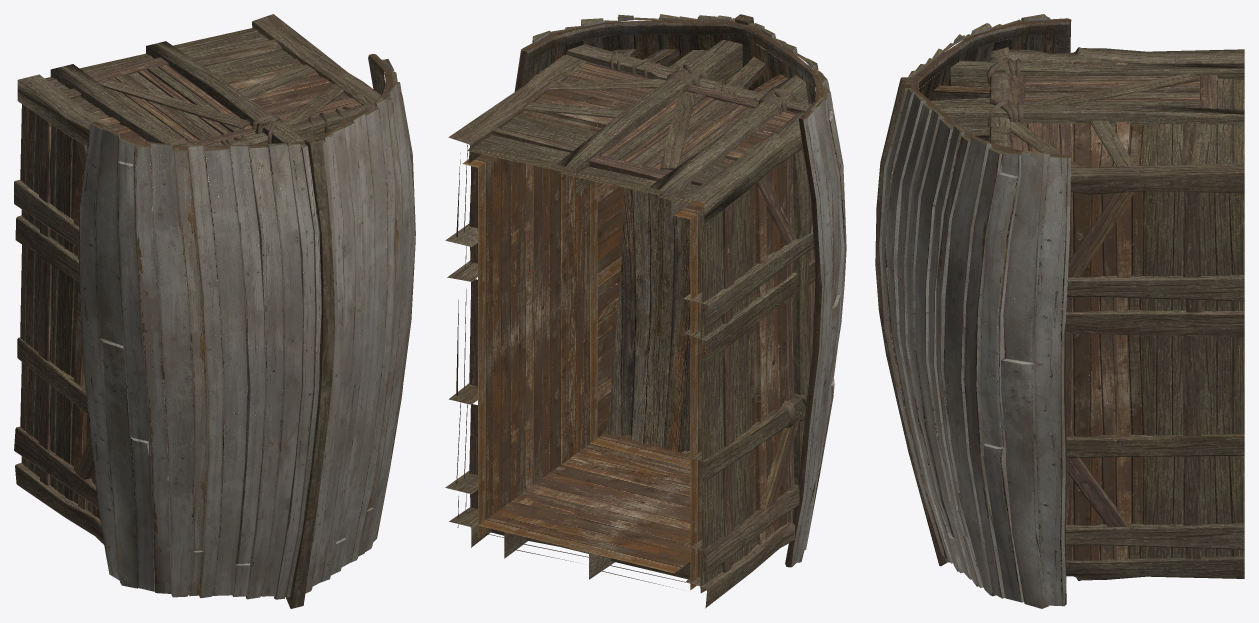
Rendered from VIK_VIL_Cabin_01A_LOD0.004-transformed.glb.
3 renders of one model, left to right at view 1: azimuth 30°, elevation 25°; view 2: azimuth 150°, elevation 25°; view 3: azimuth 270°, elevation 25°, orthographic.
Parts seen in each view (by area): view 1: VIK_VIL_Cabin_01A_LOD0.004; view 2: VIK_VIL_Cabin_01A_LOD0.004; view 3: VIK_VIL_Cabin_01A_LOD0.004.
Part boxes in pixels (left/top/right/bottom): VIK_VIL_Cabin_01A_LOD0.004: left=14, top=14, right=415, bottom=608; VIK_VIL_Cabin_01A_LOD0.004: left=445, top=14, right=846, bottom=608; VIK_VIL_Cabin_01A_LOD0.004: left=875, top=14, right=1244, bottom=608.
Bounding box in the file's own units: 0.0498 × 0.0725 × 0.0502.
6 materials, 6 textured.
